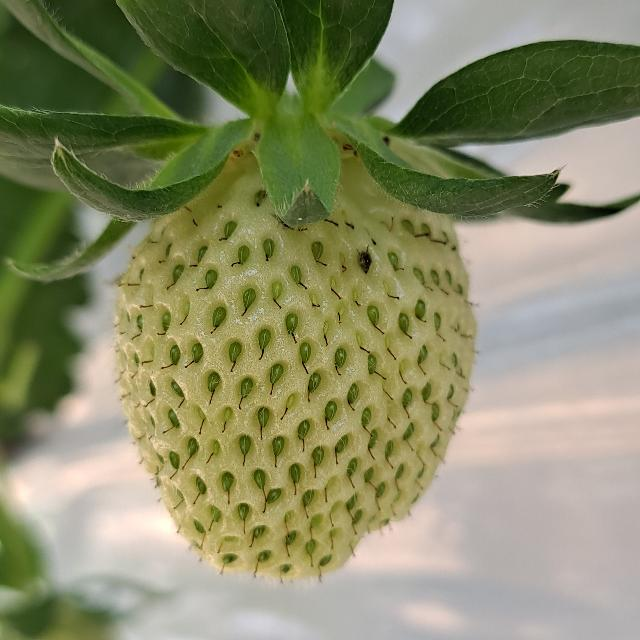Health_25: (114, 132, 476, 578)
